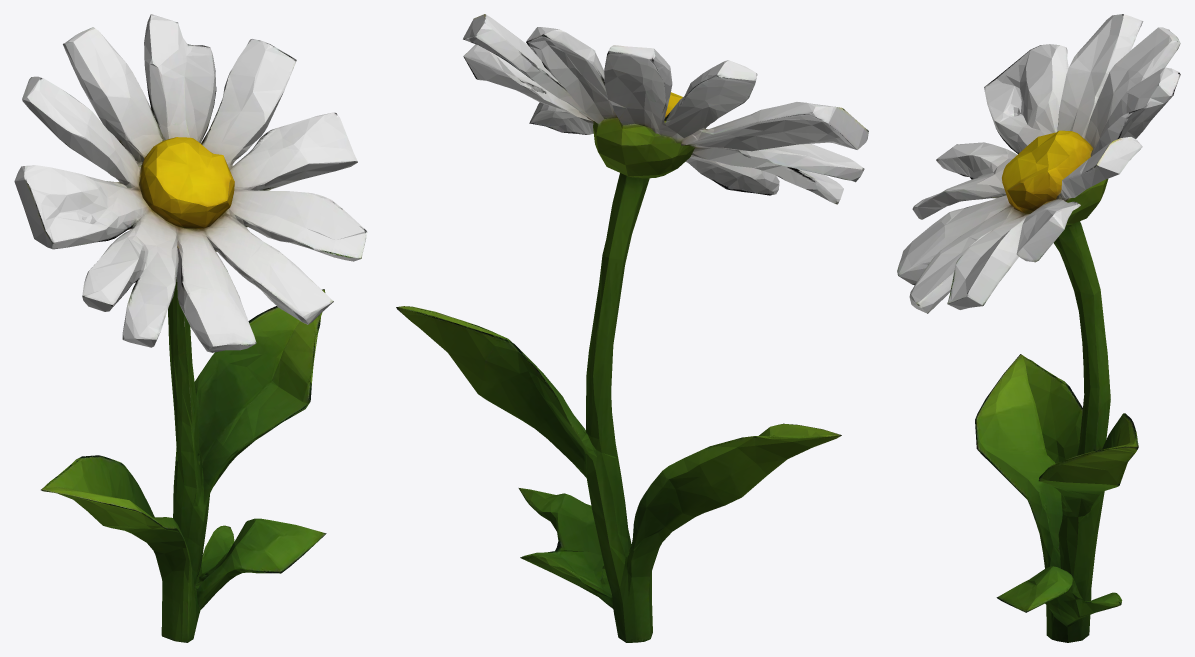
The model's file is daisy.glb.
3 views of the same model, side by side, from view 1: azimuth 30°, elevation 25°; view 2: azimuth 150°, elevation 25°; view 3: azimuth 270°, elevation 25° (orthographic). The views are drawn at different scales.
Parts seen in each view (by area): view 1: world; view 2: world; view 3: world.
Part boxes in pixels (x1,y1,x2,y2): world: (14,14,367,642); world: (396,14,868,642); world: (897,14,1180,642).
Bounding box in the file's own units: 0.6408 × 1 × 0.4428.
Materials: 1 (1 with a texture image).
